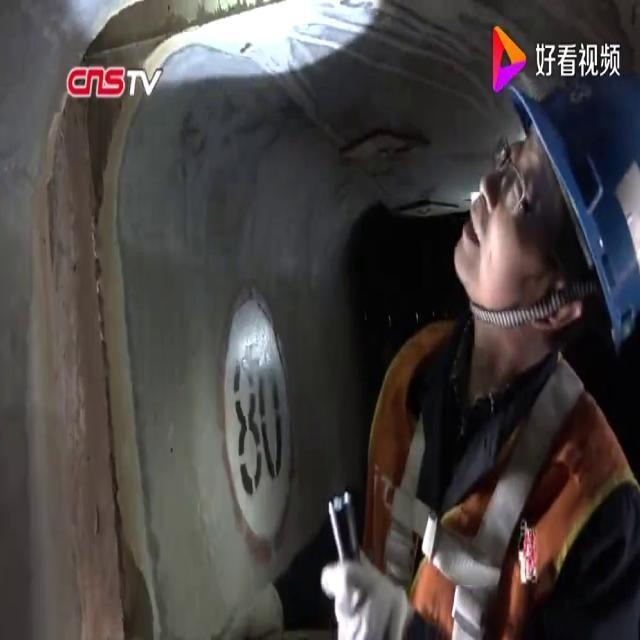Arnes_seguridad: (357, 311, 613, 639)
